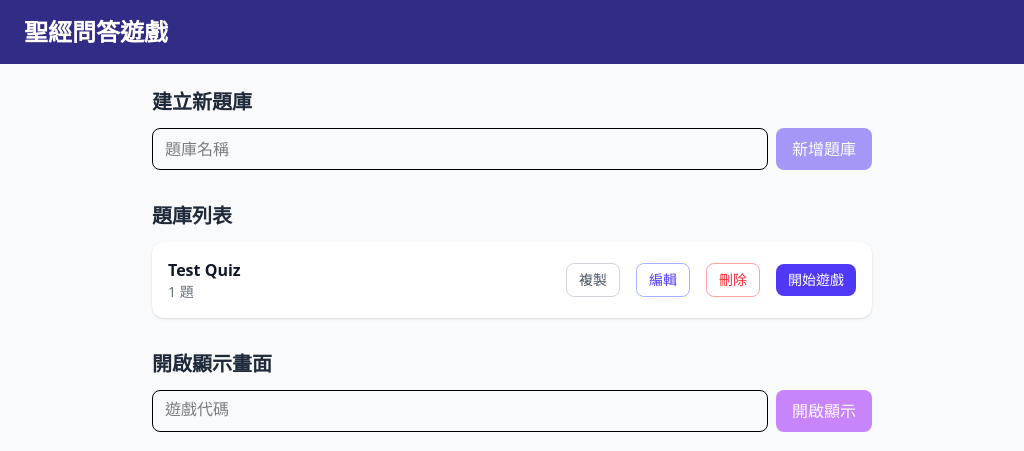
Test case: HomePage › pressing Escape cancels rename without saving
Click the heading "Test Quiz". click: [204, 270]
box: [168,259,241,281]
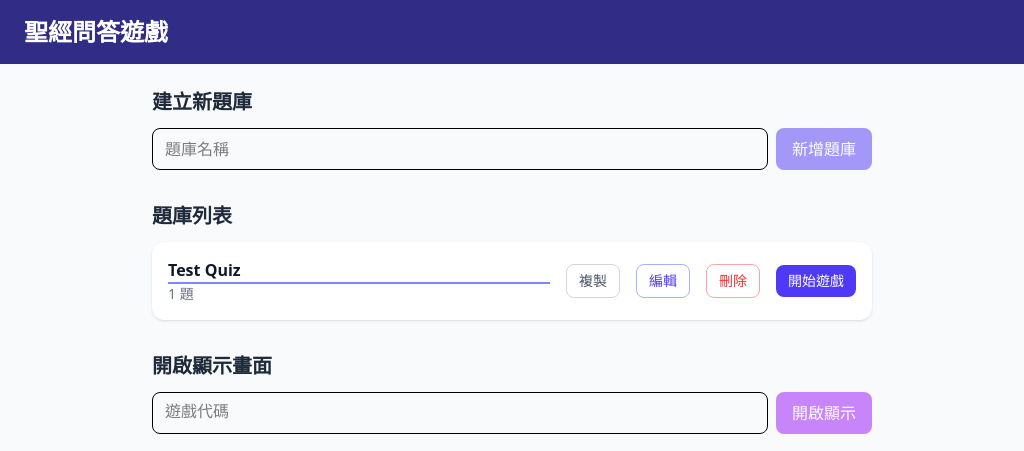
Replace the text in the field named "題庫名稱" with "Should Not Save". click: [359, 271]
box: [168,258,550,284]
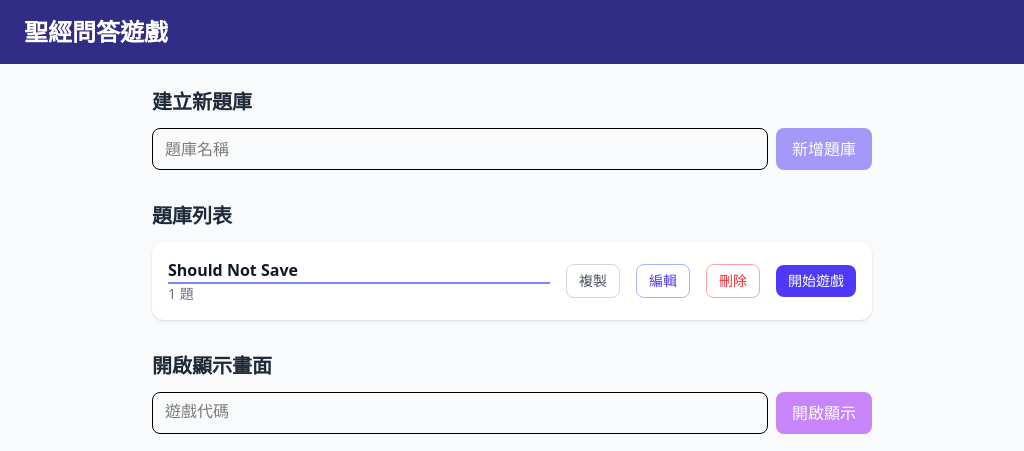
Press Escape
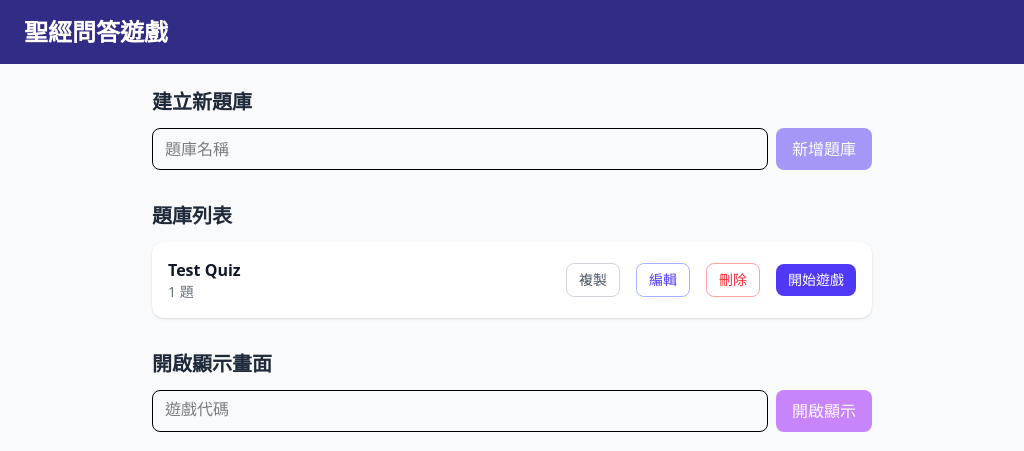
Now the heading "Test Quiz" is shown, box [168,259,241,281]
